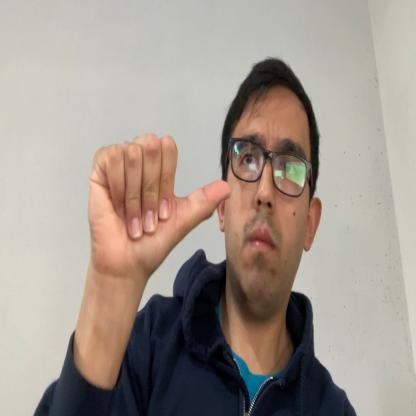A: (88, 135, 231, 280)
